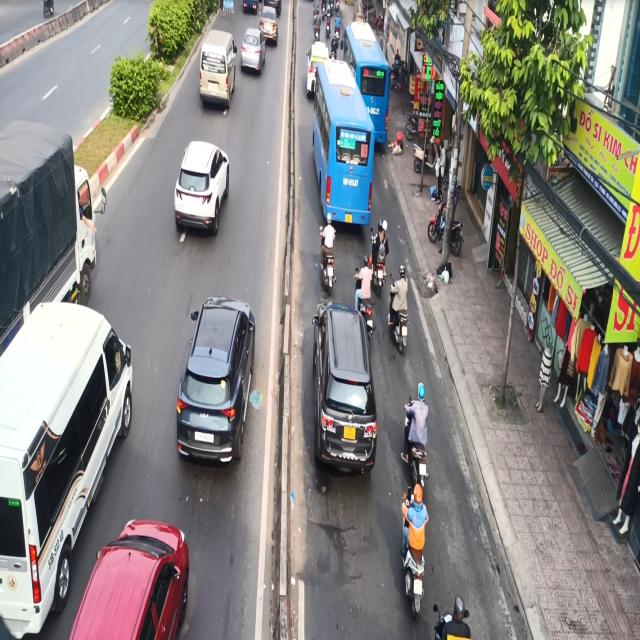bus: (314, 65, 376, 227)
car: (0, 285, 141, 638), (69, 498, 193, 640), (174, 288, 259, 484), (310, 293, 378, 491), (172, 136, 233, 240), (198, 29, 238, 114), (242, 21, 267, 78)
motor: (400, 483, 429, 635), (401, 376, 432, 492), (316, 212, 338, 295)
